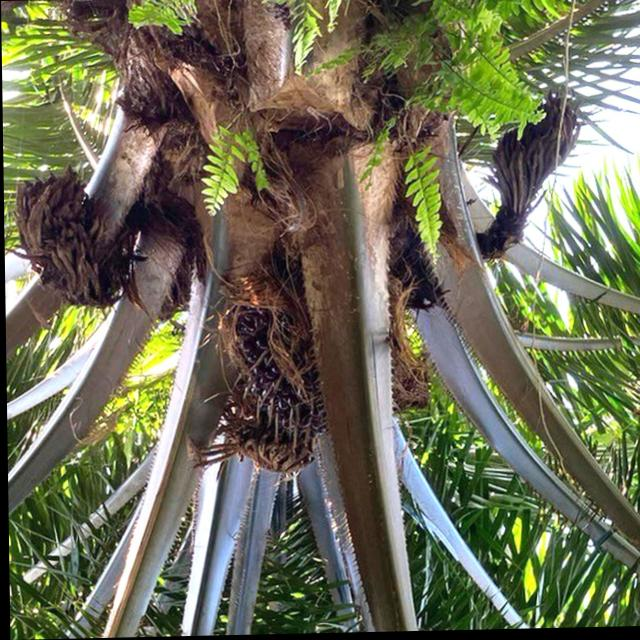ripe: (212, 277, 332, 467)
